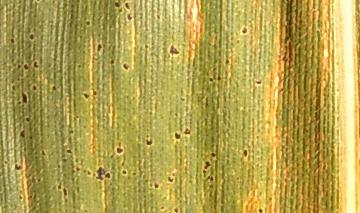tarspot: (168, 43, 179, 58), (95, 165, 104, 181), (20, 89, 29, 104), (62, 185, 68, 204), (115, 145, 125, 156), (80, 91, 90, 101), (145, 136, 154, 147), (125, 11, 134, 22), (95, 42, 104, 53), (203, 159, 212, 170), (70, 165, 81, 174), (240, 25, 249, 35), (120, 62, 129, 72), (108, 56, 117, 66), (61, 155, 70, 165), (32, 59, 40, 70), (23, 61, 30, 73), (84, 18, 93, 27), (173, 131, 181, 141), (122, 1, 132, 9), (159, 203, 167, 213), (242, 148, 249, 159), (222, 57, 230, 66), (183, 126, 191, 135), (65, 147, 74, 155), (55, 182, 64, 190), (171, 206, 181, 213), (104, 170, 111, 180), (28, 32, 35, 42), (166, 175, 174, 183), (14, 163, 22, 171), (154, 13, 162, 21), (85, 169, 93, 177), (153, 181, 160, 190), (19, 129, 26, 138), (31, 83, 38, 92), (24, 115, 31, 124), (17, 193, 24, 202), (91, 89, 98, 98), (257, 206, 265, 213), (216, 74, 223, 82), (208, 174, 215, 182), (142, 43, 150, 50), (254, 79, 263, 85), (121, 168, 127, 177), (113, 1, 120, 8), (208, 76, 215, 83), (39, 149, 46, 156), (51, 84, 57, 92), (16, 62, 21, 71), (131, 170, 137, 177), (117, 7, 123, 14), (9, 37, 15, 44), (36, 176, 42, 183), (210, 151, 216, 157), (35, 1, 40, 3)
